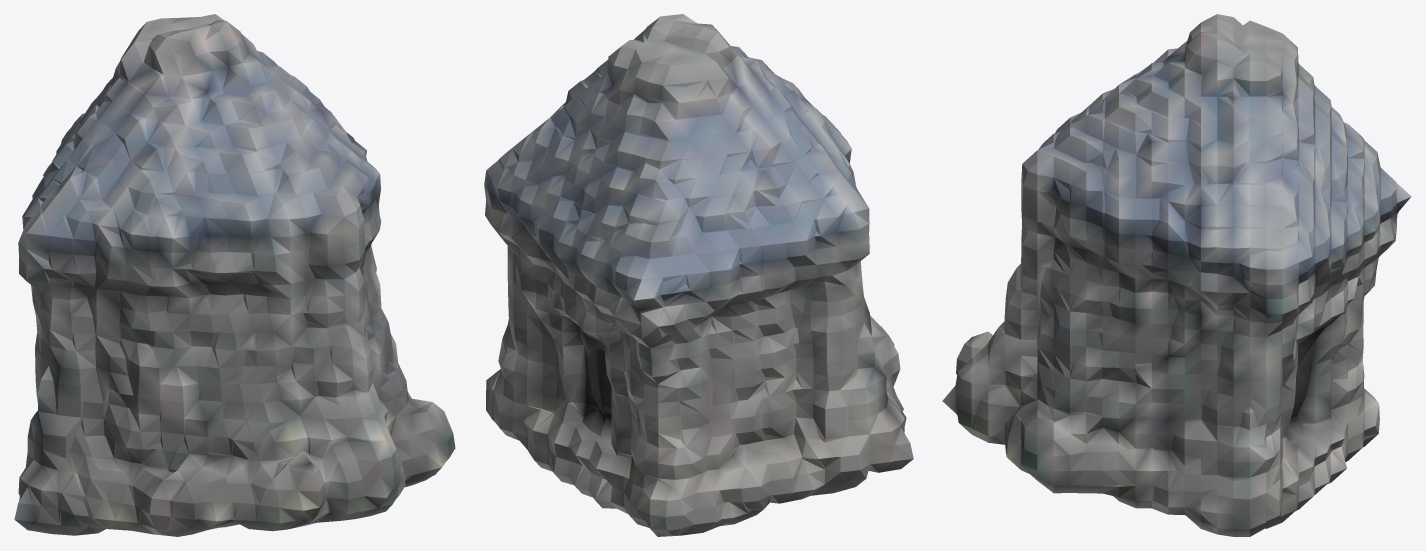
File: stage4h_generated_shrine_raw.glb
The picture shows the model from 3 angles, left to right: view 1: azimuth 30°, elevation 25°; view 2: azimuth 150°, elevation 25°; view 3: azimuth 270°, elevation 25°; orthographic projection. The views are drawn at different scales.
Parts seen in each view (by area): view 1: world; view 2: world; view 3: world.
Boxes of the visible parts, box(x1,y1,x2,y2) form: world: box(14, 14, 455, 536); world: box(484, 14, 913, 536); world: box(942, 14, 1411, 536).
Bounding box in the file's own units: 0.7418 × 0.8258 × 0.7924.
